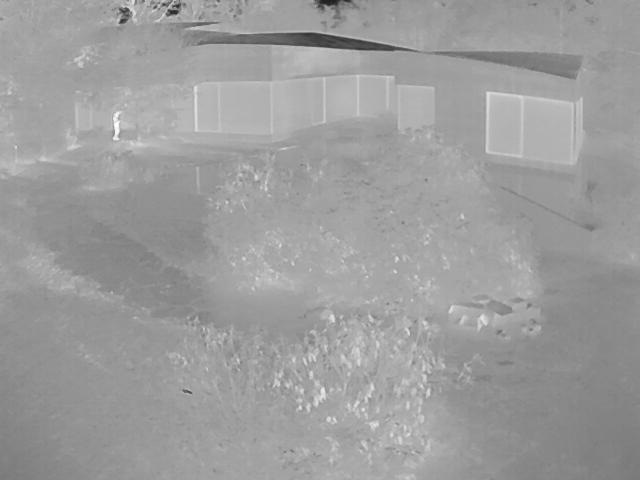person: (111, 108, 123, 140)
